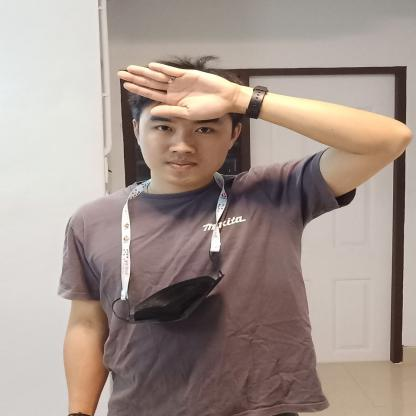Sick: (111, 53, 414, 192)
